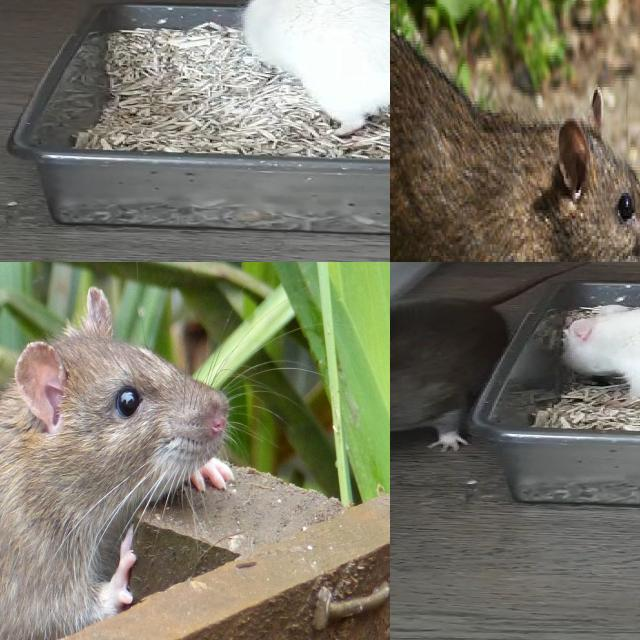rat: (0, 287, 232, 640), (390, 0, 640, 262), (236, 0, 390, 136), (390, 292, 512, 462), (544, 273, 640, 415)
